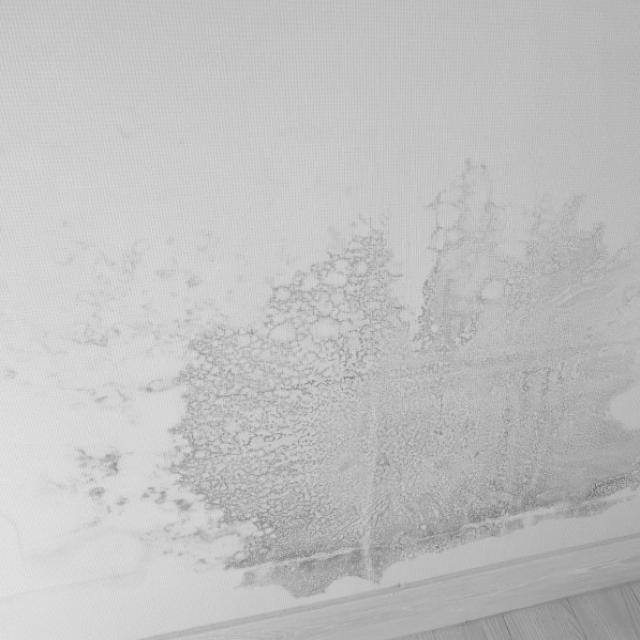stain marks: (195, 156, 632, 597), (28, 242, 225, 570)
